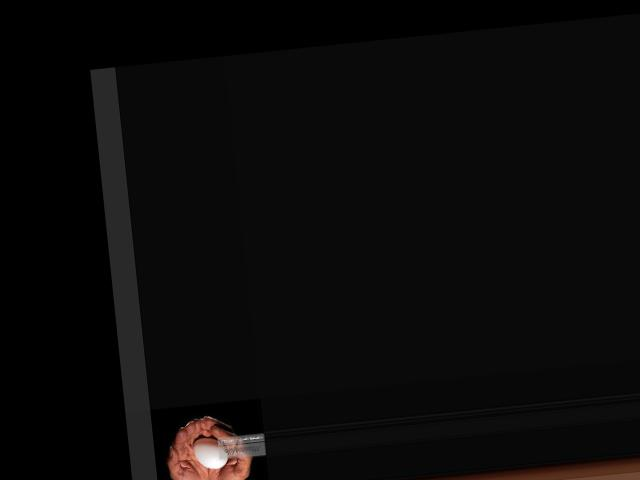egg: (191, 434, 227, 470)
